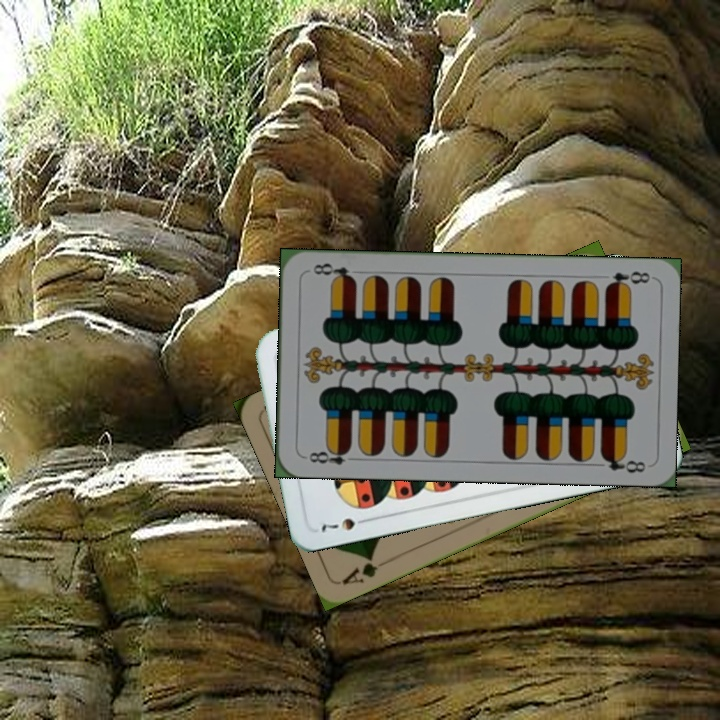E8: (300, 443, 359, 467), (602, 267, 653, 291)
GA: (339, 551, 381, 588)
S7: (317, 513, 373, 535)
